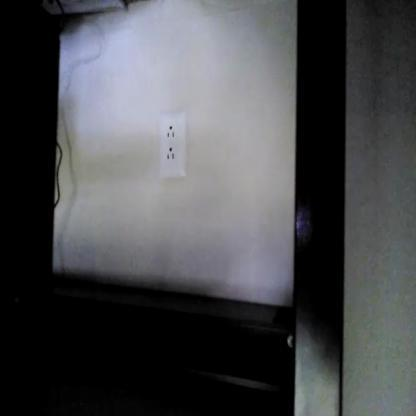OUTLET: (160, 110, 186, 176)
